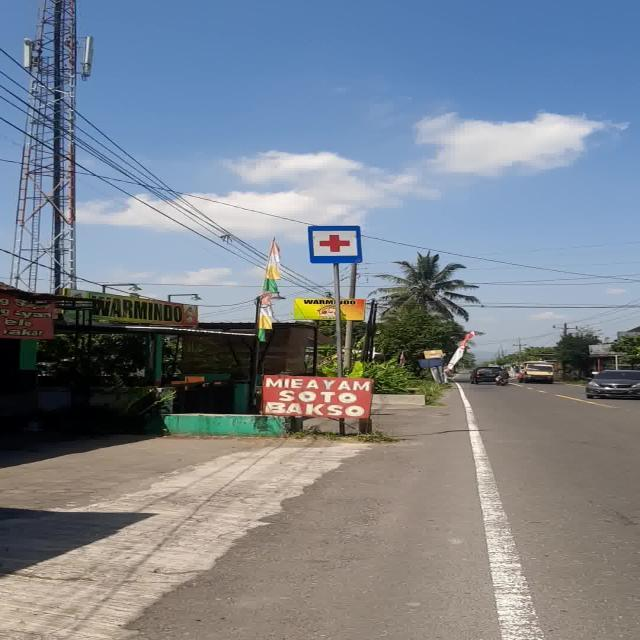Balai Pertolongan Pertama: (308, 226, 362, 264)
